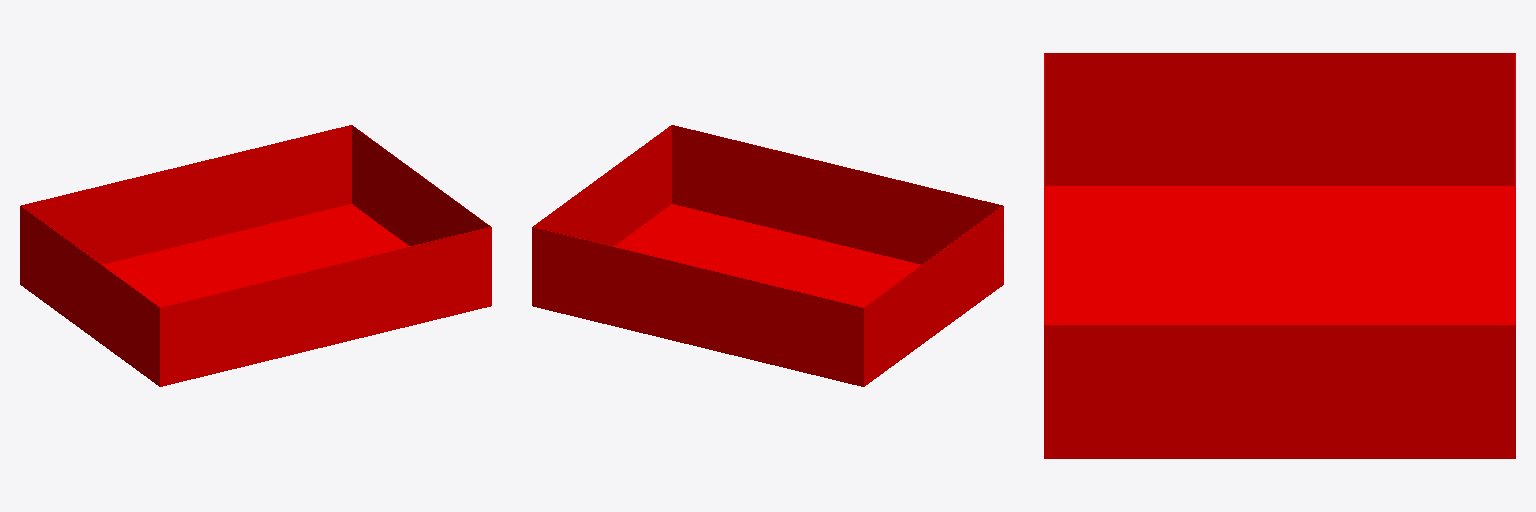
The robot description file, URDF, robot "square.urdf":
<?xml version="1.0" ?>
<robot name="square.urdf">
  <link name="baseLink">
    <contact>
      <lateral_friction value="1.0"/>
      <inertia_scaling value="3.0"/>
    </contact>
    <inertial>
      <origin rpy="0 0 0" xyz="0 0 0"/>
       <mass value=".1"/>
       <inertia ixx="1" ixy="0" ixz="0" iyy="1" iyz="0" izz="1"/>
    </inertial>
    <visual>
      <origin rpy="0 0 0" xyz="0 0 0"/>
      <geometry>
        <mesh filename="18.stl" scale="1 1 1" />
      </geometry>
      <material name="red">
        <color rgba="1 0 0 1"/>
      </material>
    </visual>
    <collision>
      <origin rpy="0 0 0" xyz="0 0 0"/>
      <geometry>
        <mesh filename="18_convex.obj" scale="1 1 1" />
      </geometry>
    </collision>
  </link>
</robot>

--- Render facts (derived) ---
The picture shows the robot from 3 angles, left to right: view 1: azimuth 30°, elevation 25°; view 2: azimuth 150°, elevation 25°; view 3: azimuth 270°, elevation 25°; orthographic projection.
Robot: square.urdf — 1 links, 0 joints (none); root link baseLink; default pose: every joint at zero.
Links seen in each view (by area): view 1: baseLink; view 2: baseLink; view 3: baseLink.
Boxes of the visible links, x1=… form: baseLink: x1=20, y1=125, x2=491, y2=386; baseLink: x1=532, y1=125, x2=1003, y2=386; baseLink: x1=1044, y1=53, x2=1515, y2=458.
Size in the robot's own frame: 0.728 by 0.5311 by 0.1665 metres.
Meshes: 1 distinct files referenced, 1 mesh visuals loaded (1 binary STL).